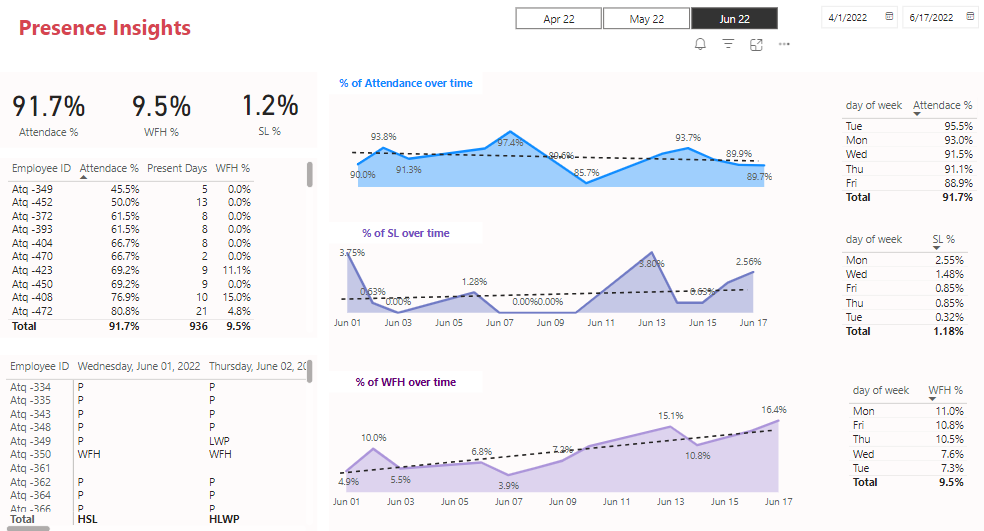

Layout of this report page (visuals, bound fields, positions):
{"tool":"powerbi","page":{"name":"Presence Insights","canvas":[1280,720],"ordinal":0},"visuals":[{"type":"textbox","box":[7.8,205.6,399.9,225.5],"z":0},{"type":"textbox","box":[7.8,453.3,399.8,227.6],"z":1000},{"type":"textbox","box":[422.3,97.9,848.1,582.3],"z":2000},{"type":"textbox","box":[7.8,98,399.9,95.4],"z":3000},{"type":"tableEx","fields":{"Values":["Final Data.Employee ID","Measures (2).Attendace %","Measures (2).Present Days","Measures (2).WFH %"]},"box":[12.6,205.2,394.9,225.7],"z":4000},{"type":"slicer","fields":{"Values":["Final Data.Date"]},"box":[1027.3,5.2,252.7,46.3],"z":5000},{"type":"slicer","fields":{"Values":["Final Data.MMM YY"]},"box":[630.4,10.5,379.5,35.8],"z":6000},{"type":"areaChart","fields":{"Category":["Final Data.MMM YY","Final Data.Date"],"Y":["Measures (2).WFH %"]},"box":[420.7,502.3,589,153.5],"z":7000},{"type":"areaChart","fields":{"Category":["Final Data.WeekNo","Final Data.Date"],"Y":["Measures (2).Attendace %"]},"box":[444.1,144.9,540.4,103.2],"z":8000},{"type":"card","fields":{"Values":["Measures (2).Attendace %"]},"box":[7.8,98,124,96.3],"z":9000},{"type":"card","fields":{"Values":["Measures (2).WFH %"]},"box":[141.4,98,138.8,96.3],"z":10000},{"type":"areaChart","fields":{"Category":["Final Data.MMM YY","Final Data.Date"],"Y":["Measures (2).SL %"]},"box":[422.5,307.1,556,124],"z":11000},{"type":"card","fields":{"Values":["Measures (2).SL %"]},"box":[286.3,97.2,121.4,96.3],"z":13000},{"type":"textbox","box":[0,0,280.8,71.6],"z":14000},{"type":"textbox","box":[422.4,98.2,192.5,27.5],"z":15000},{"type":"textbox","box":[422.5,286.3,192.6,26.9],"z":16000},{"type":"textbox","box":[422.1,473.7,192.6,27.2],"z":17000},{"type":"pivotTable","fields":{"Rows":["Final Data.Employee ID"],"Columns":["Final Data.Date"],"Values":["Min(Final Data.Value)"]},"box":[11.7,453.3,395.9,227.6],"z":18000},{"type":"textbox","box":[13.6,691.6,289.8,28.2],"z":19000},{"type":"tableEx","fields":{"Values":["Final Data.day of week","Measures (2).Attendace %"]},"box":[1060.9,125.8,209.9,145.7],"z":20000},{"type":"tableEx","fields":{"Values":["Final Data.day of week","Measures (2).SL %"]},"box":[1060.9,294.1,191.7,167.4],"z":21000},{"type":"tableEx","fields":{"Values":["Final Data.day of week","Measures (2).WFH %"]},"box":[1068.7,483.2,170,167.4],"z":22000}]}

Visuals, with their boxes on the page's 1280x720 design canvas (x1, y1, x2, y2). These are canvas units, not pixel positions in the 984x531 screenshot, which may show the page scaled, cropped or inside an application window:
textbox: 8 206 408 431
textbox: 8 453 408 681
textbox: 422 98 1270 680
textbox: 8 98 408 193
tableEx - Final Data.Employee ID x Measures (2).Attendace %: 13 205 408 431
slicer - Final Data.Date: 1027 5 1280 52
slicer - Final Data.MMM YY: 630 10 1010 46
areaChart - Final Data.MMM YY x Final Data.Date: 421 502 1010 656
areaChart - Final Data.WeekNo x Final Data.Date: 444 145 984 248
card - Measures (2).Attendace %: 8 98 132 194
card - Measures (2).WFH %: 141 98 280 194
areaChart - Final Data.MMM YY x Final Data.Date: 422 307 978 431
card - Measures (2).SL %: 286 97 408 194
textbox: 0 0 281 72
textbox: 422 98 615 126
textbox: 422 286 615 313
textbox: 422 474 615 501
pivotTable - Final Data.Employee ID x Final Data.Date: 12 453 408 681
textbox: 14 692 303 720
tableEx - Final Data.day of week x Measures (2).Attendace %: 1061 126 1271 272
tableEx - Final Data.day of week x Measures (2).SL %: 1061 294 1253 462
tableEx - Final Data.day of week x Measures (2).WFH %: 1069 483 1239 651
